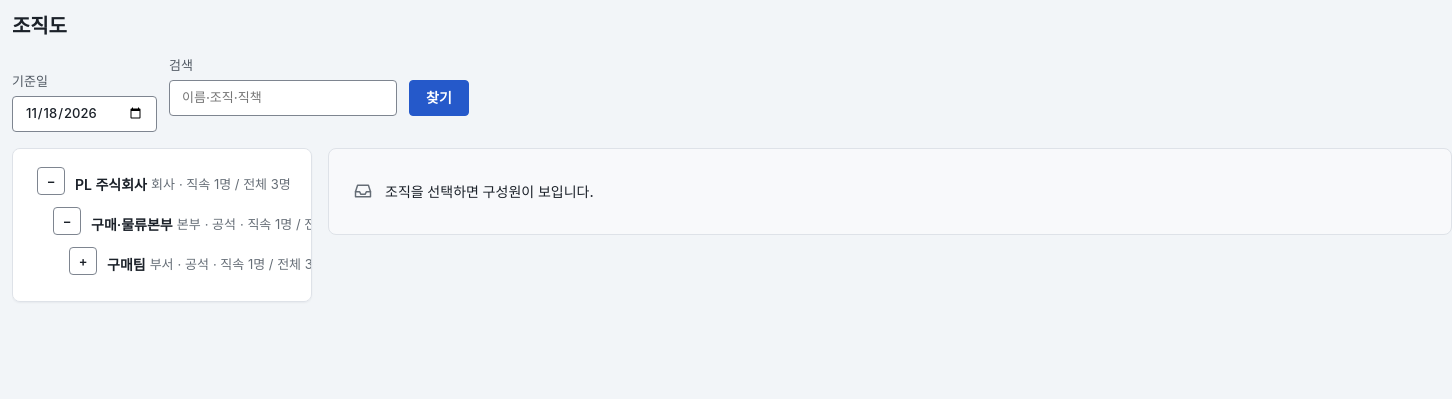
Test: 조직도 화면 › 트리에 인원 수·폐지·조직장·공석이 보이고 펼침·접기가 되며 영문 상태값이 보이지 않는다
Check: the list named "조직 트리" is shown, box [37,164,287,284]
Check: the text "PL 주식회사" is shown, box [75,174,147,195]
Click the button named "구매팀 펼치기".
click(83, 260)  # box [69,246,97,274]
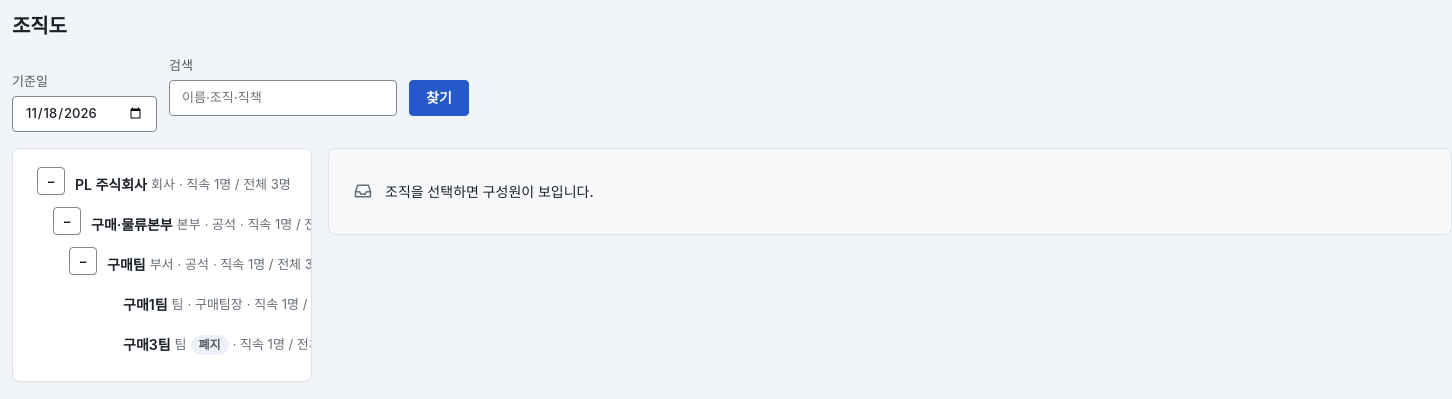
Check: the text "구매1팀" is shown, box [123,294,168,315]
Check: the text "· 구매팀장" is shown, box [188,295,243,314]
Check: the text "폐지" is shown, box [190,334,229,354]
Click the 3rd button "−".
click(83, 260)  # box [69,246,97,274]
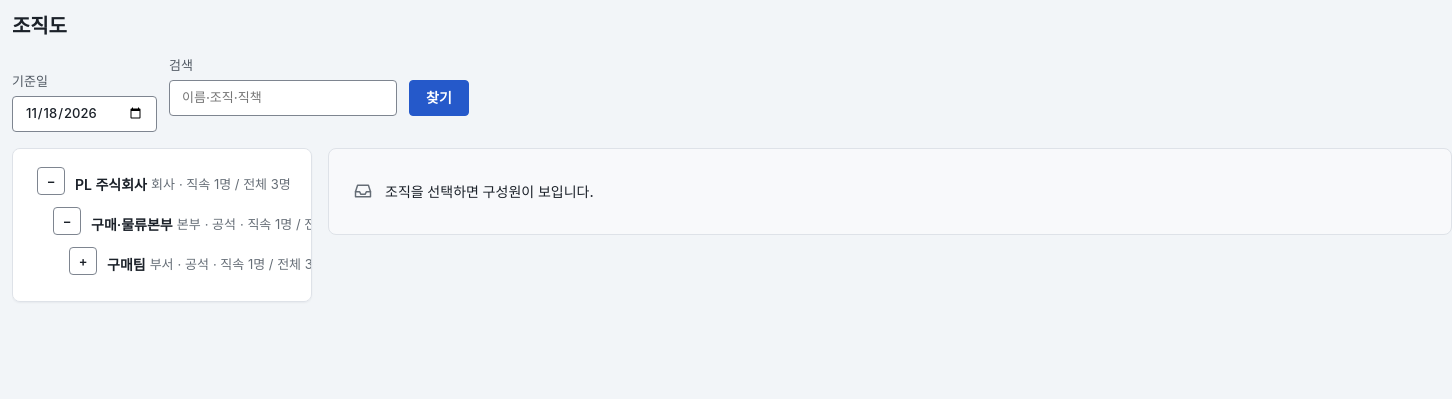
Check: the button "구매1팀" is gone
